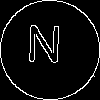N: (25, 25, 63, 72)
